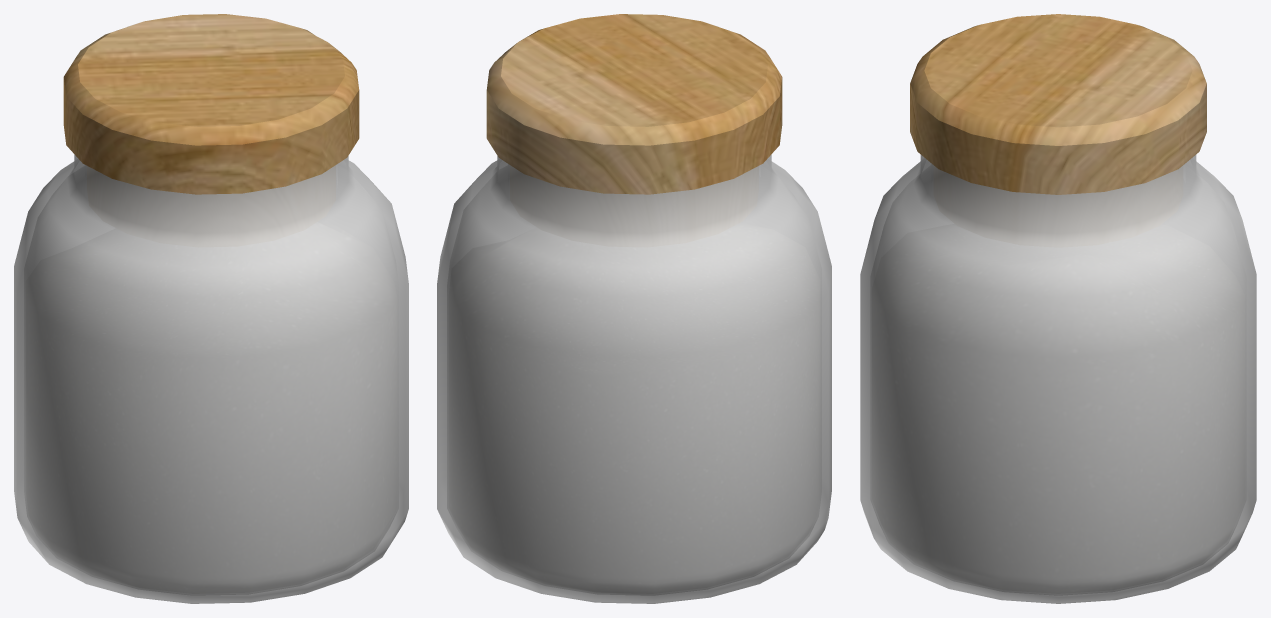
File: fit-spice.glb
The picture shows the model from 3 angles, left to right: view 1: azimuth 30°, elevation 25°; view 2: azimuth 150°, elevation 25°; view 3: azimuth 270°, elevation 25°; orthographic projection.
Size of the model in its own units: 9.89 by 12.79 by 9.89.
3 materials, 2 textured.
